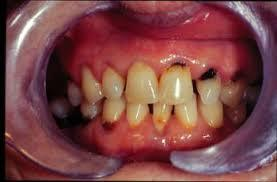Calculus: (100, 106, 127, 132), (150, 113, 172, 137), (178, 116, 201, 135)
Caries: (197, 64, 222, 88)
